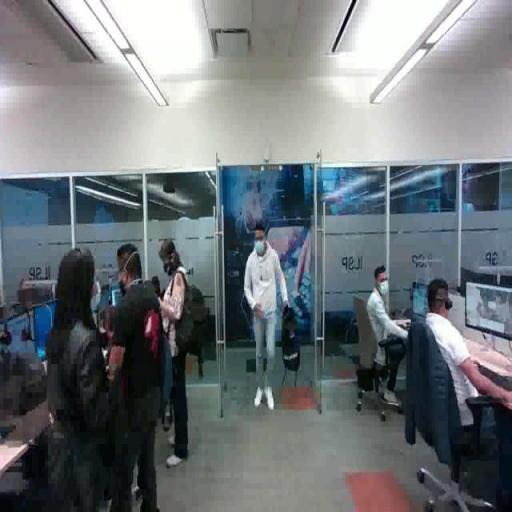person: (45, 250, 123, 512), (112, 245, 164, 512), (245, 218, 291, 414), (160, 237, 192, 467)
